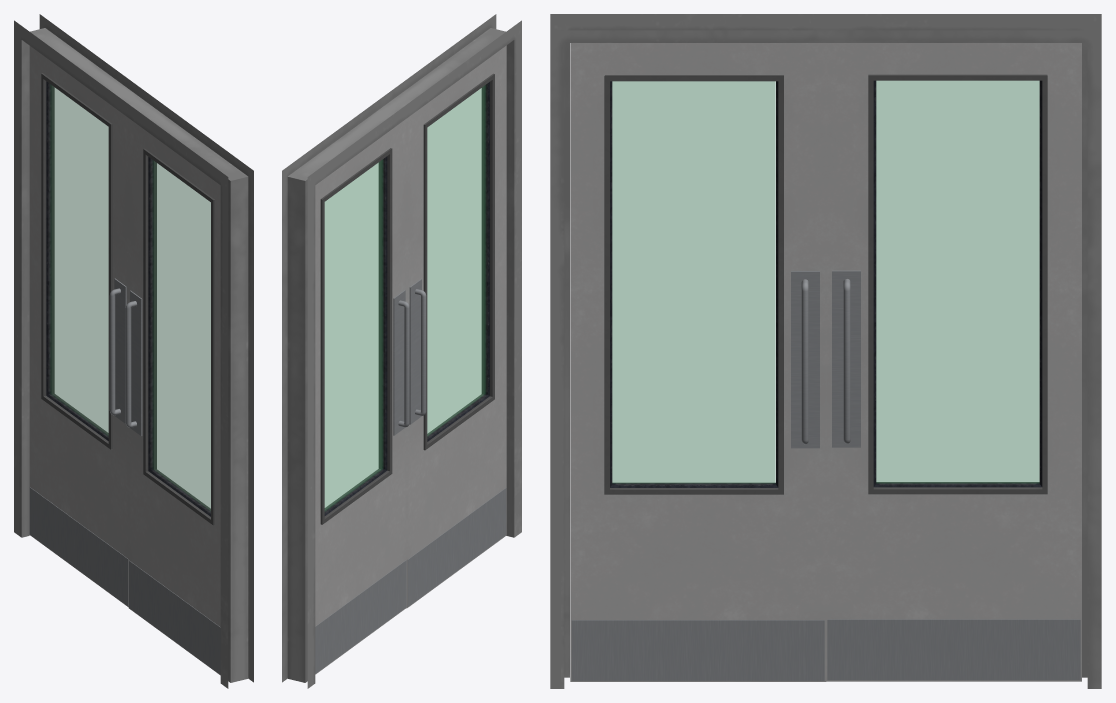
File: DoubleDoor.fbx
The picture shows the model from 3 angles, left to right: view 1: azimuth 30°, elevation 25°; view 2: azimuth 150°, elevation 25°; view 3: azimuth 270°, elevation 25°; orthographic projection. The views are drawn at different scales.
Parts seen in each view (by area): view 1: Door (×2), Glass (×2), Frame; view 2: Door (×2), Glass (×2), Frame; view 3: Door (×2), Glass (×2), Frame.
Part boxes in pixels (x1=…): Door (×2): x1=29, y1=46, x2=220, y2=675; Glass (×2): x1=50, y1=84, x2=210, y2=511; Frame: x1=14, y1=14, x2=253, y2=688; Door (×2): x1=315, y1=45, x2=506, y2=674; Glass (×2): x1=325, y1=85, x2=485, y2=511; Frame: x1=282, y1=14, x2=521, y2=688; Door (×2): x1=570, y1=43, x2=1081, y2=681; Glass (×2): x1=612, y1=81, x2=1039, y2=483; Frame: x1=550, y1=14, x2=1101, y2=688.
Size of the model in its own units: 15.64 by 259 by 196.
